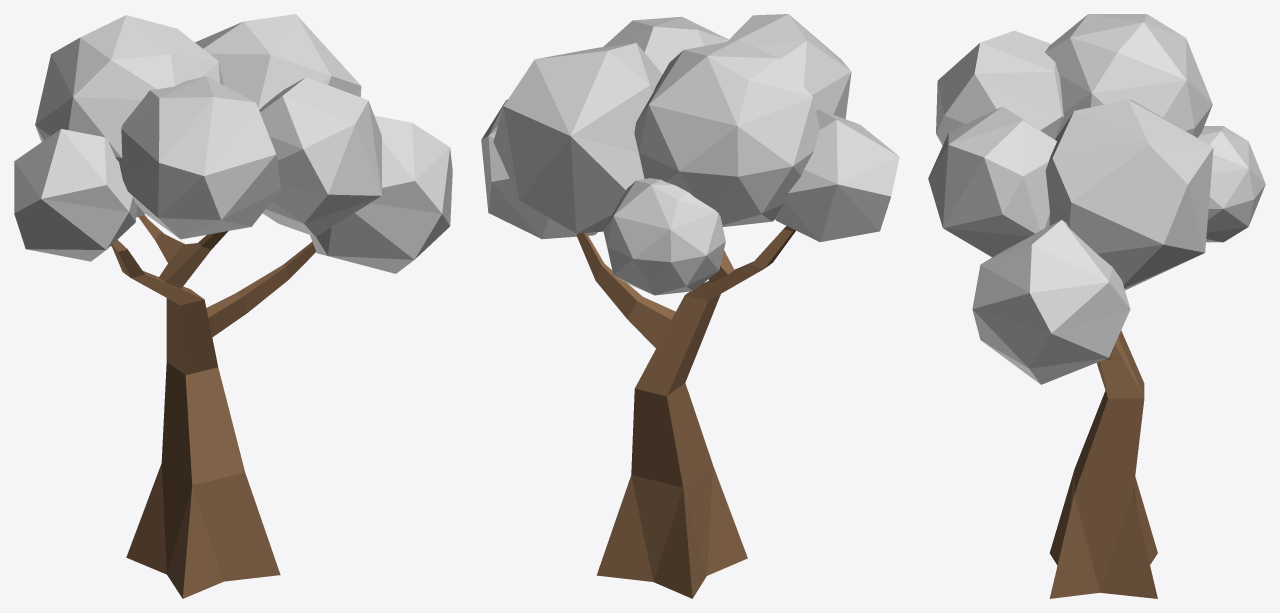
The model's file is tree.fbx.
3 renders of one model, left to right at view 1: azimuth 30°, elevation 25°; view 2: azimuth 150°, elevation 25°; view 3: azimuth 270°, elevation 25°, orthographic. The views are drawn at different scales.
Parts seen in each view (by area): view 1: Tree, leaves6, leaves2, leaves5, Leaves, leaves3, leaves4; view 2: Tree, leaves5, leaves4, Leaves1, Leaves, leaves6, leaves3, leaves2; view 3: leaves4, leaves3, Tree, leaves2, leaves5, leaves6, Leaves1.
Boxes of the visible parts, x1,y1,x2,y2 form: Tree: (111,214,315,598); leaves6: (119,76,281,239); leaves2: (259,77,381,236); leaves5: (35,15,224,217); Leaves: (14,129,137,261); leaves3: (310,115,452,273); leaves4: (195,14,361,109); Tree: (576,226,795,598); leaves5: (634,39,819,226); leaves4: (493,43,662,233); Leaves1: (603,178,725,295); Leaves: (775,109,899,242); leaves6: (727,14,851,118); leaves3: (481,99,597,239); leaves2: (603,16,728,74); leaves4: (1045,99,1213,290); leaves3: (972,220,1130,384); Tree: (1049,330,1157,598); leaves2: (928,106,1056,257); leaves5: (1045,14,1212,137); leaves6: (936,30,1063,145); Leaves1: (1198,126,1265,242).
Size of the model in its own units: 89.26 by 110 by 63.56.
